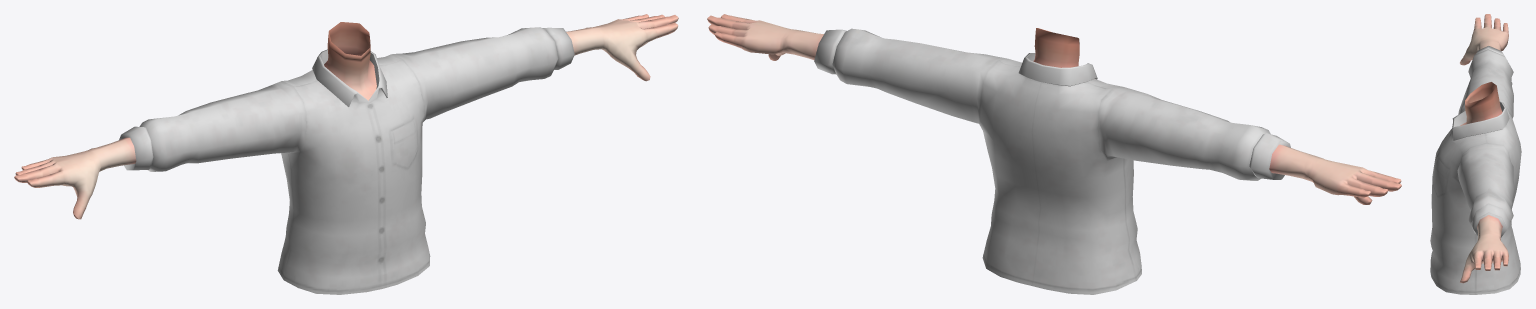
Rendered from tr0760_00_upb00.gltf.
3 views of the same model, side by side, from view 1: azimuth 30°, elevation 25°; view 2: azimuth 150°, elevation 25°; view 3: azimuth 270°, elevation 25° (orthographic). The views are drawn at different scales.
Visible parts, largest first — view 1: upb00_upperbody_mesh_shape:upperbody00, upb00_upperbodyskin_mesh_shape:upperbody00_skin; view 2: upb00_upperbody_mesh_shape:upperbody00, upb00_upperbodyskin_mesh_shape:upperbody00_skin; view 3: upb00_upperbody_mesh_shape:upperbody00, upb00_upperbodyskin_mesh_shape:upperbody00_skin.
Boxes of the visible parts, bbox=[...] form: upb00_upperbody_mesh_shape:upperbody00: bbox=[119, 27, 574, 294]; upb00_upperbodyskin_mesh_shape:upperbody00_skin: bbox=[14, 14, 678, 219]; upb00_upperbody_mesh_shape:upperbody00: bbox=[814, 28, 1290, 294]; upb00_upperbodyskin_mesh_shape:upperbody00_skin: bbox=[707, 14, 1401, 204]; upb00_upperbody_mesh_shape:upperbody00: bbox=[1430, 46, 1521, 294]; upb00_upperbodyskin_mesh_shape:upperbody00_skin: bbox=[1460, 14, 1508, 283].
Size of what is drawn, in the model's own units: 1.63 by 0.5553 by 0.2469.
2 materials, 2 textured.
